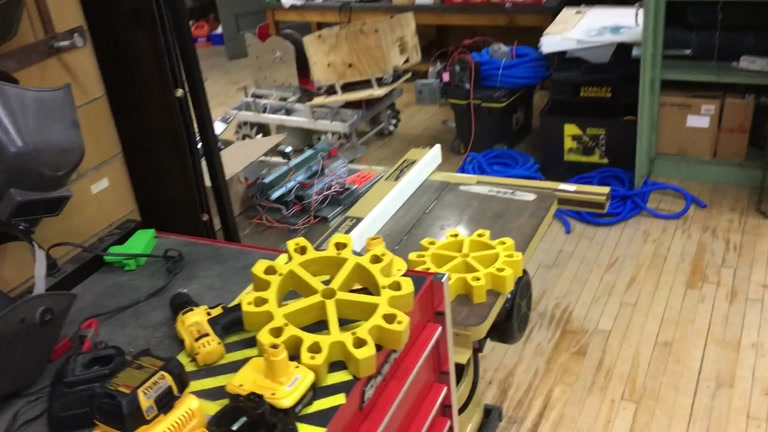gear: (241, 233, 415, 379), (407, 226, 524, 305)
